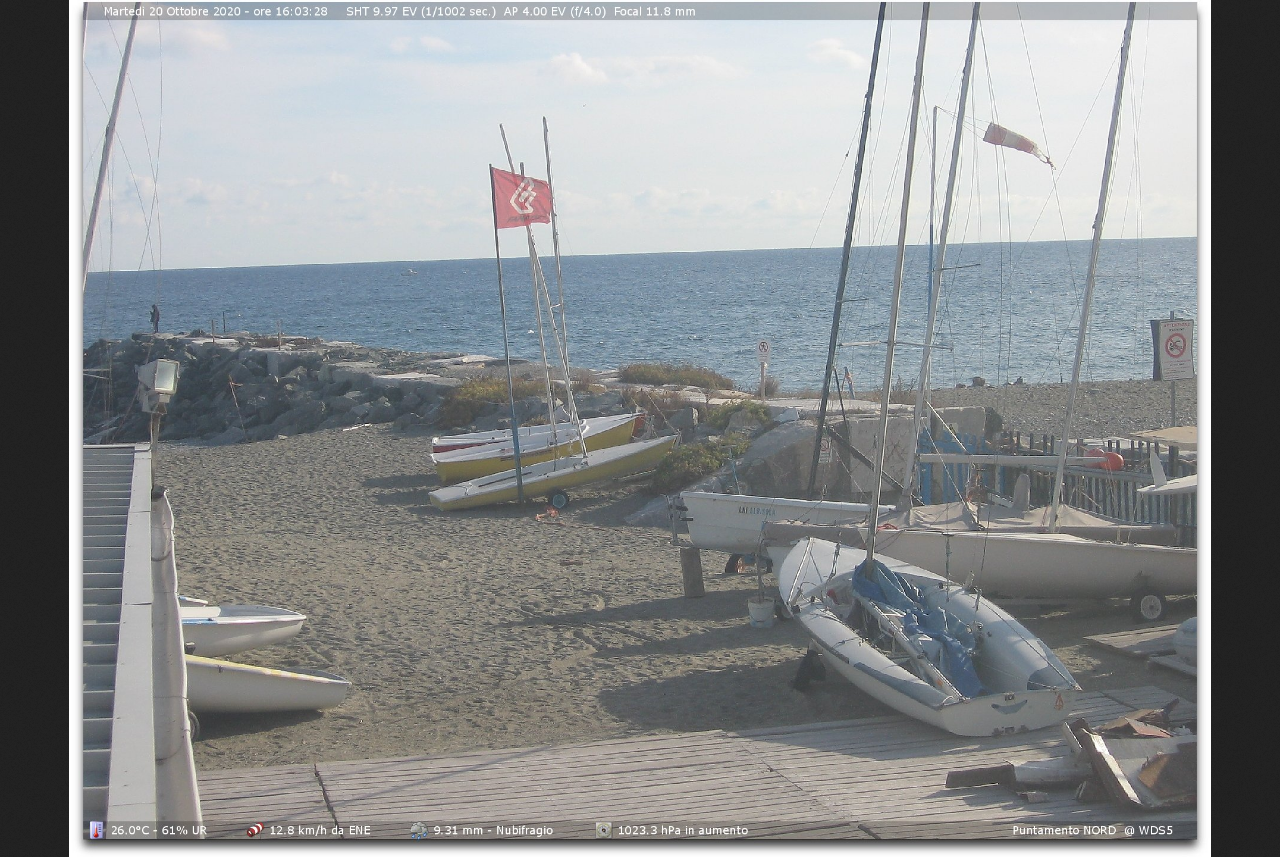yes: (490, 165, 554, 228)
